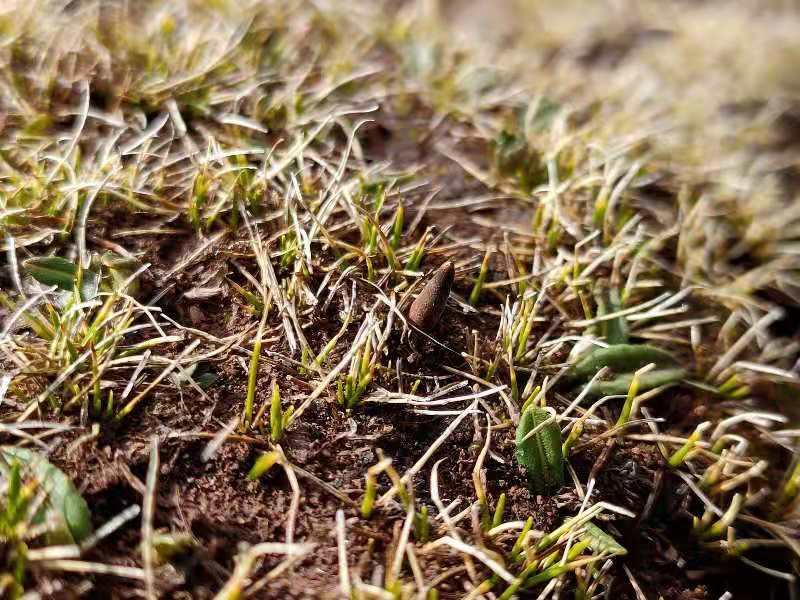Chongcao: (407, 260, 455, 325)
